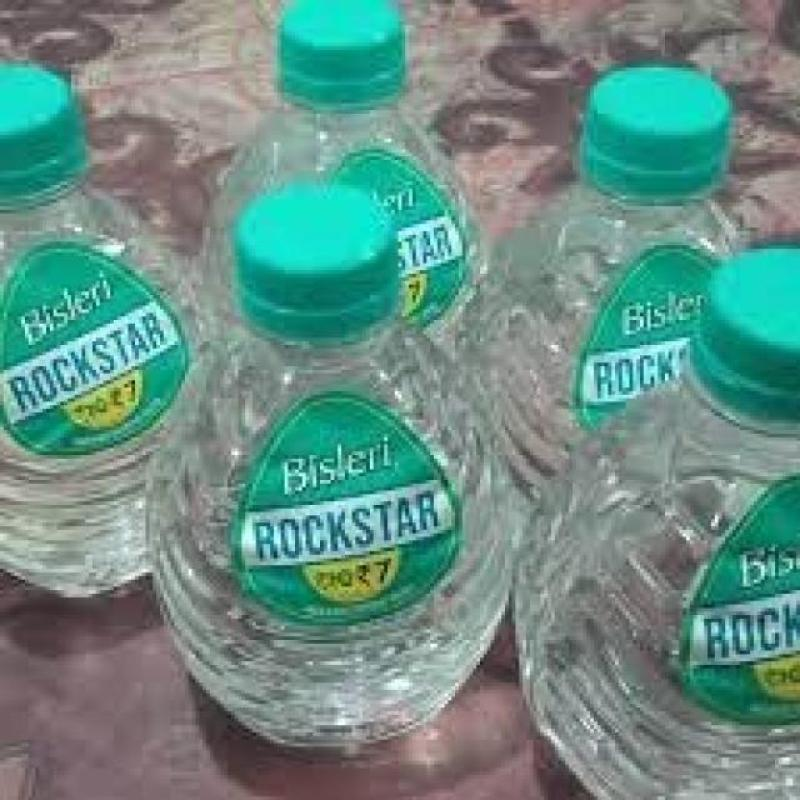botella: (148, 176, 510, 752), (511, 245, 800, 799), (477, 66, 745, 553), (0, 65, 202, 599), (196, 0, 490, 345)
